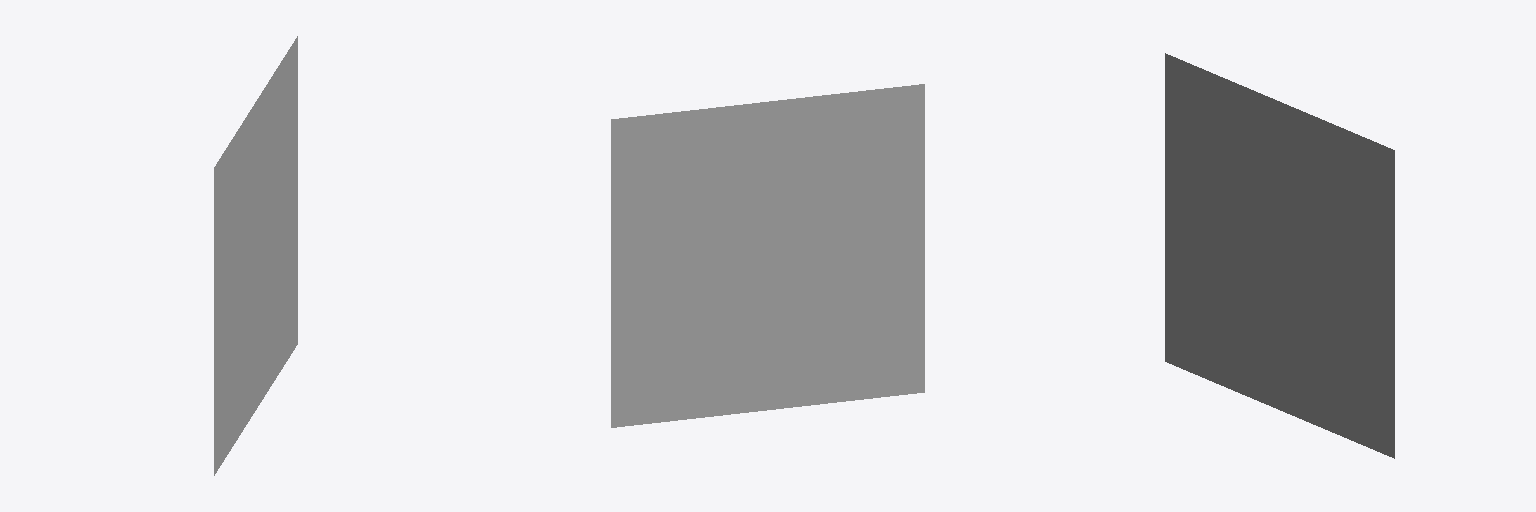
File: curtain_test.obj
3 views of the same model, side by side, from view 1: azimuth 30°, elevation 25°; view 2: azimuth 150°, elevation 25°; view 3: azimuth 270°, elevation 25° (orthographic).
Visible parts, largest first — view 1: _pPlane1; view 2: _pPlane1; view 3: _pPlane1.
Boxes of the visible parts, x1=… form: _pPlane1: x1=214, y1=36, x2=297, y2=475; _pPlane1: x1=611, y1=84, x2=924, y2=427; _pPlane1: x1=1165, y1=53, x2=1394, y2=458.
Size of the model in its own units: 8.09 by 11.98 by 8.09.